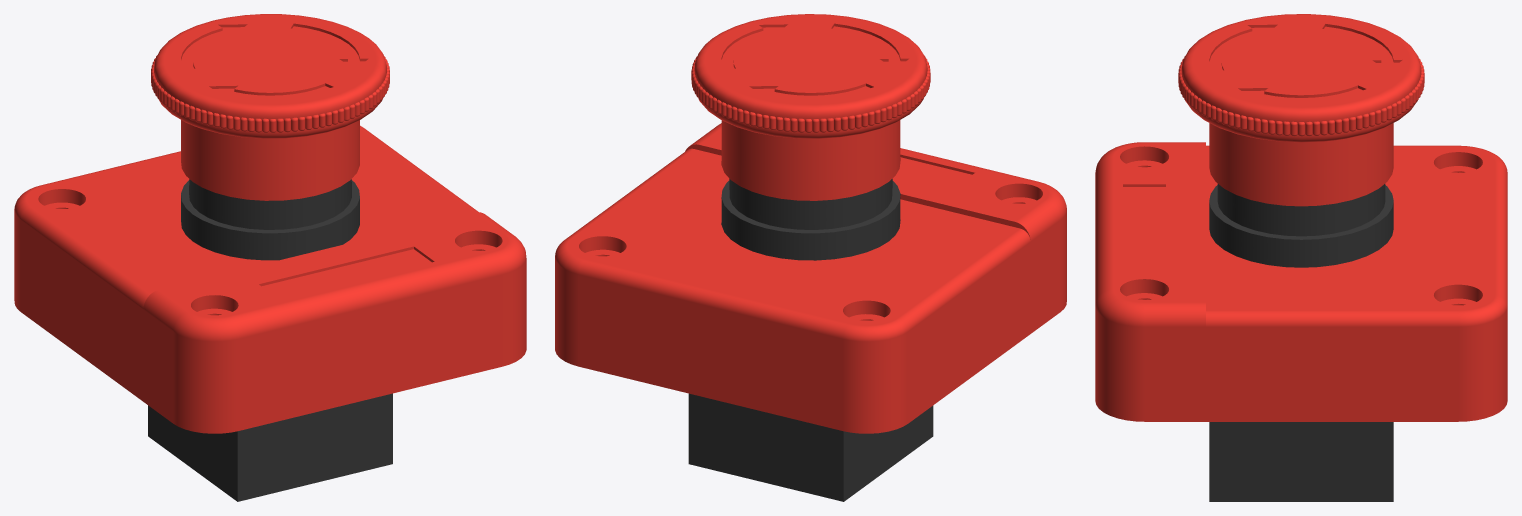
File: Emergency Switch.fbx
The picture shows the model from 3 angles, left to right: view 1: azimuth 30°, elevation 25°; view 2: azimuth 150°, elevation 25°; view 3: azimuth 270°, elevation 25°; orthographic projection. The views are drawn at different scales.
Visible parts, largest first — view 1: Body1; view 2: Body1; view 3: Body1.
Part boxes in pixels (left/top/right/bottom): Body1: left=14, top=14, right=526, bottom=501; Body1: left=555, top=14, right=1066, bottom=501; Body1: left=1095, top=14, right=1507, bottom=501.
Size of the model in its own units: 0.067 by 0.072 by 0.067.
